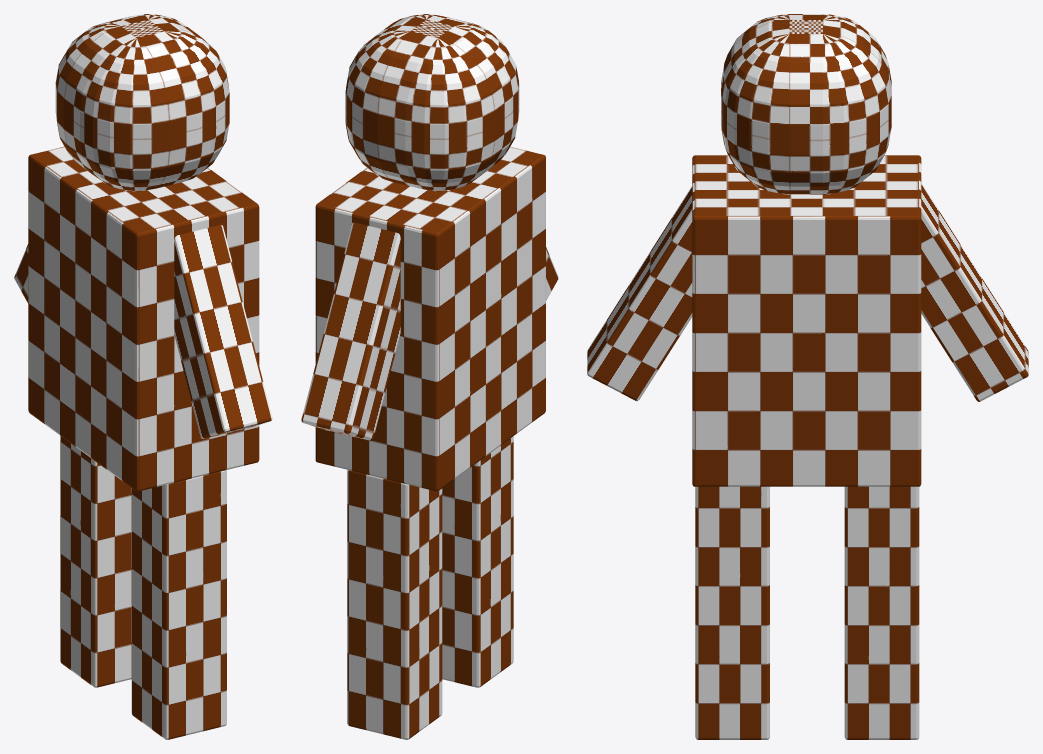
Rendered from Character.obj.
3 views of the same model, side by side, from view 1: azimuth 30°, elevation 25°; view 2: azimuth 150°, elevation 25°; view 3: azimuth 270°, elevation 25° (orthographic). The views are drawn at different scales.
Parts seen in each view (by area): view 1: Character_Body, Character_Head, Character_Leg_s_Left1, Character_Leg_s_Right1, Character_Arm_s_Left, Character_Arm_s_Right; view 2: Character_Body, Character_Head, Character_Leg_s_Right1, Character_Leg_s_Left1, Character_Arm_s_Right; view 3: Character_Body, Character_Head, Character_Leg_s_Right1, Character_Leg_s_Left1, Character_Arm_s_Right, Character_Arm_s_Left.
Boxes of the visible parts, x1=… form: Character_Body: x1=28, y1=146, x2=259, y2=491; Character_Head: x1=55, y1=14, x2=229, y2=191; Character_Leg_s_Left1: x1=131, y1=470, x2=226, y2=739; Character_Leg_s_Right1: x1=60, y1=436, x2=131, y2=687; Character_Arm_s_Left: x1=174, y1=225, x2=272, y2=438; Character_Arm_s_Right: x1=14, y1=244, x2=28, y2=303; Character_Body: x1=315, y1=147, x2=545, y2=491; Character_Head: x1=345, y1=14, x2=519, y2=191; Character_Leg_s_Right1: x1=347, y1=470, x2=442, y2=739; Character_Leg_s_Left1: x1=442, y1=436, x2=513, y2=687; Character_Arm_s_Right: x1=301, y1=222, x2=400, y2=440; Character_Body: x1=692, y1=155, x2=921, y2=486; Character_Head: x1=721, y1=14, x2=891, y2=194; Character_Leg_s_Right1: x1=844, y1=486, x2=919, y2=739; Character_Leg_s_Left1: x1=695, y1=486, x2=769, y2=739; Character_Arm_s_Right: x1=921, y1=183, x2=1028, y2=401; Character_Arm_s_Left: x1=587, y1=186, x2=692, y2=401.
Size of the model in its own units: 0.2859 by 1.29 by 0.7388.
